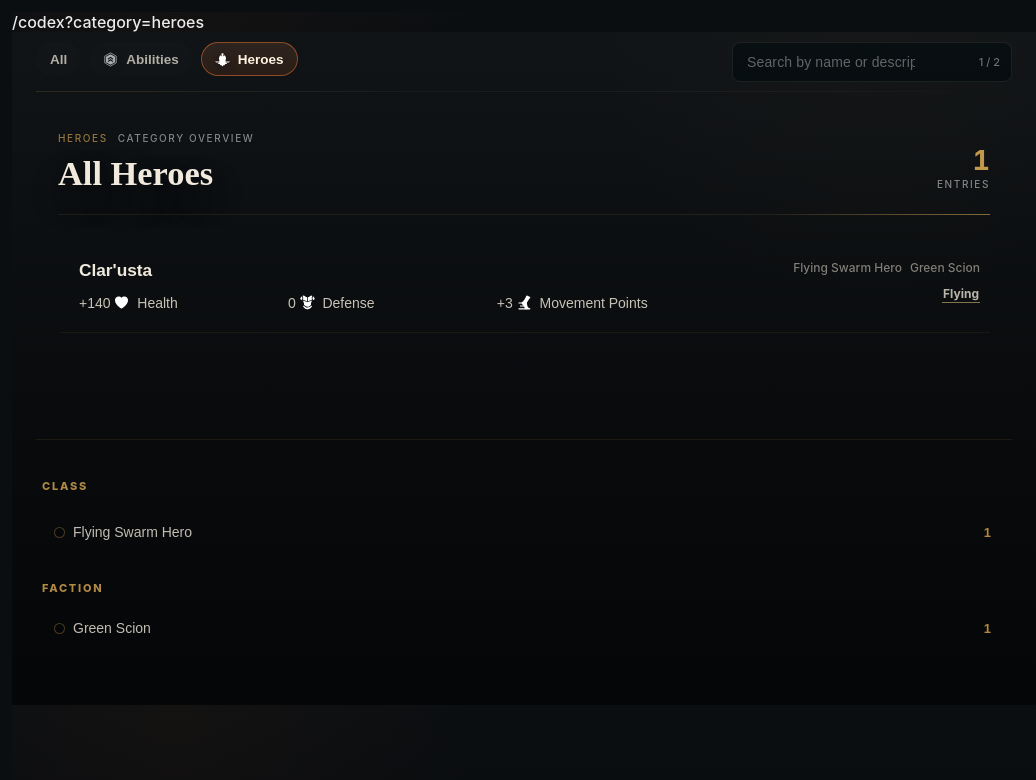
Test: CodexPage metadata relationship rendering › renders exact Hero granted ability links without unresolved reference leakage
The image size is (1036, 780).
Check: the element "Clar'usta" does not show "Grants:", box top-left (58, 241), bottom-right (990, 333)
Check: the element "Clar'usta" does not show "UnitAbility_Hero_Unresolved", box top-left (58, 241), bottom-right (990, 333)
Click the button with aria-label "open flying in codex". click: (961, 294)
box: top-left (942, 285), bottom-right (980, 303)
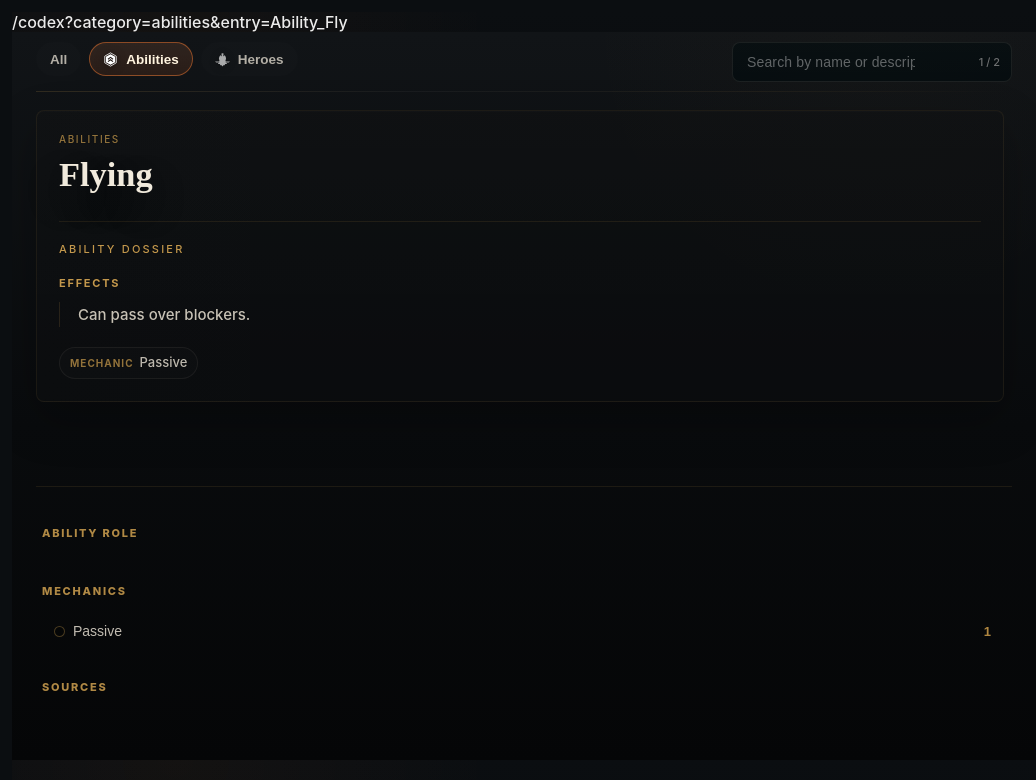
Check: the text with test id "location-probe" reads "/codex?category=abilities&entry=Ability_Fly", box top-left (12, 12), bottom-right (348, 32)
Check: the heading "Flying" is shown, box top-left (59, 155), bottom-right (153, 193)
